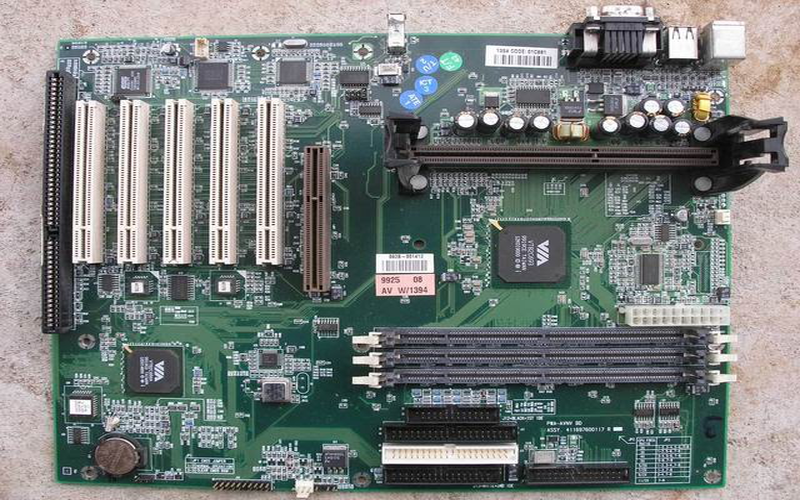Cirtuit-Board: (31, 11, 777, 500)
